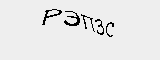З: (93, 17, 104, 37)
П: (82, 12, 96, 35)
Р: (41, 5, 61, 27)
С: (103, 17, 115, 39)
Э: (62, 9, 82, 29)
